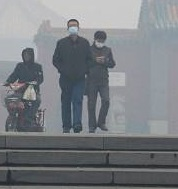person: (52, 18, 93, 133), (5, 47, 47, 133), (85, 29, 116, 135)
